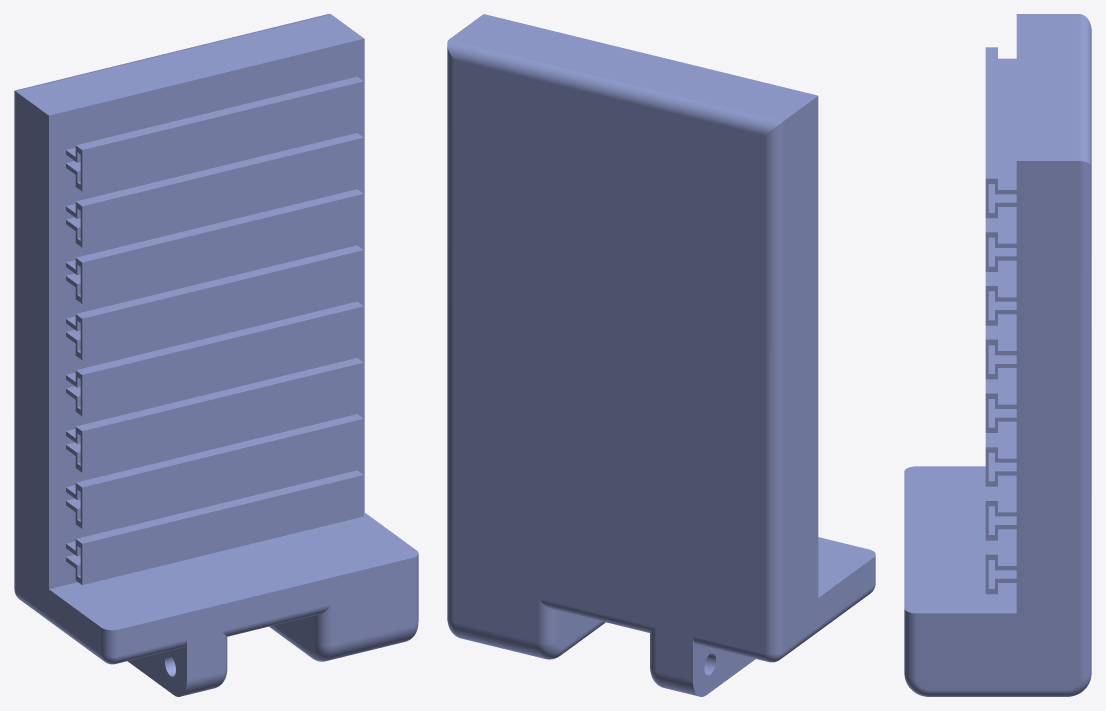
The model's file is finger_80.dae.
The picture shows the model from 3 angles, left to right: view 1: azimuth 30°, elevation 25°; view 2: azimuth 150°, elevation 25°; view 3: azimuth 270°, elevation 25°; orthographic projection. The views are drawn at different scales.
Parts seen in each view (by area): view 1: node0; view 2: node0; view 3: node0.
Boxes of the visible parts, bbox=[...] form: node0: bbox=[14, 14, 418, 696]; node0: bbox=[447, 14, 875, 696]; node0: bbox=[904, 14, 1091, 696].
Size of the model in its own units: 0.0558 by 0.03 by 0.0955.
